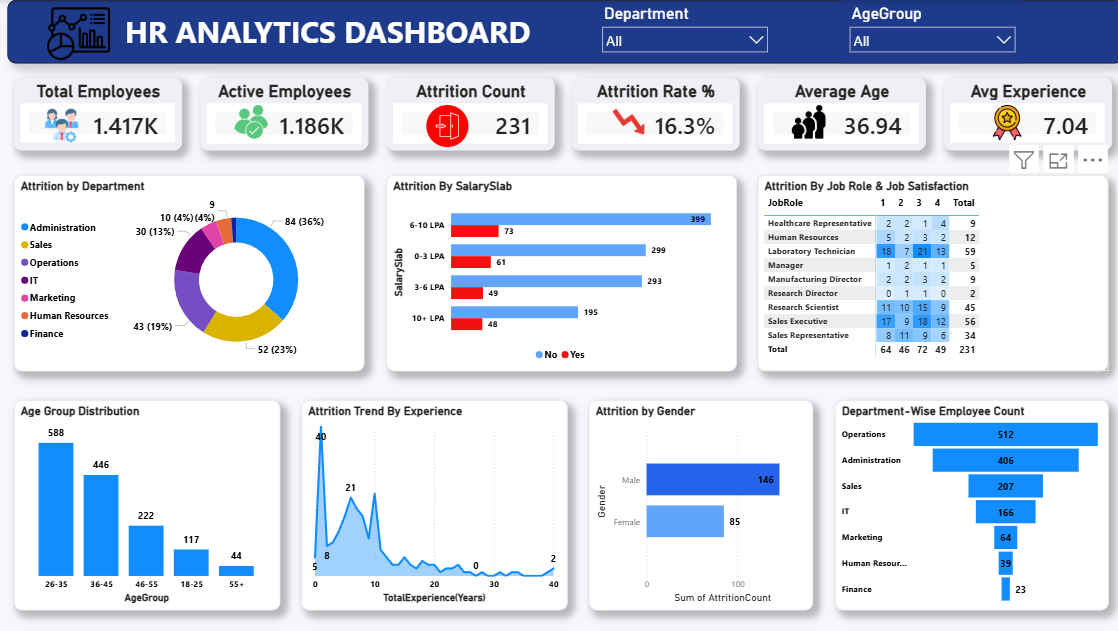

The dashboard page shown, as its layout file describes it:
{"tool":"powerbi","page":{"name":"Page 1","canvas":[1600,900],"ordinal":0},"visuals":[{"type":"textbox","box":[10.3,0,1590.1,90],"z":0},{"type":"cardVisual","title":"Total Employees","fields":{"Data":["CountNonNull(HR_Analytics-4.EmpID)"]},"box":[20,110,240,104],"z":1000},{"type":"cardVisual","title":"Active Employees","fields":{"Data":["CountNonNull(HR_Analytics-4.EmployeeCount)"]},"box":[285,110,240,104.3],"z":2000},{"type":"cardVisual","title":"Attrition Count","fields":{"Data":["Sum(HR_Analytics-4.AttritionCount)"]},"box":[550,110,240,104.3],"z":3000},{"type":"cardVisual","title":"Attrition Rate %","fields":{"Data":["HR_Analytics-4.Attrition Rate %"]},"box":[815,110,240,104.3],"z":4000},{"type":"cardVisual","title":"Average Age","fields":{"Data":["Avg(HR_Analytics-4.Age)"]},"box":[1080,110,240,104.3],"z":5000},{"type":"cardVisual","title":"Avg Experience","fields":{"Data":["Avg(HR_Analytics-4.YearsatCompany)"]},"box":[1345,110,240,104],"z":6000},{"type":"donutChart","title":"Attrition by Department","fields":{"Category":["HR_Analytics-4.Department"],"Y":["Sum(HR_Analytics-4.AttritionCount)"]},"box":[20,250,500,280],"z":7000},{"type":"clusteredBarChart","title":"Attrition By SalarySlab","fields":{"Category":["HR_Analytics-4.SalarySlab"],"Y":["CountNonNull(HR_Analytics-4.EmpID)"],"Series":["HR_Analytics-4.Attrition"]},"box":[550,250,500,280],"z":8000},{"type":"pivotTable","title":"Attrition By Job Role & Job Satisfaction","fields":{"Rows":["HR_Analytics-4.JobRole"],"Values":["Sum(HR_Analytics-4.AttritionCount)"],"Columns":["HR_Analytics-4.JobSatisfaction"]},"box":[1080,250,500,280],"z":9000},{"type":"columnChart","title":"Age Group Distribution","fields":{"Y":["Sum(HR_Analytics-4.EmployeeCount)"],"Category":["HR_Analytics-4.AgeGroup"]},"box":[20,570,380,300],"z":10000},{"type":"clusteredBarChart","title":"Attrition by Gender","fields":{"Category":["HR_Analytics-4.Gender"],"Y":["Sum(HR_Analytics-4.AttritionCount)"]},"box":[840,570,320,300],"z":11000},{"type":"areaChart","title":"Attrition Trend By Experience","fields":{"Category":["HR_Analytics-4.TotalExperience(Years)"],"Y2":["Sum(HR_Analytics-4.AttritionCount)"]},"box":[430,570,380,300],"z":12000},{"type":"funnel","title":"Department-Wise Employee Count","fields":{"Category":["HR_Analytics-4.Department"],"Y":["CountNonNull(HR_Analytics-4.EmpID)"]},"box":[1190,570,390,300],"z":13000},{"type":"slicer","fields":{"Values":["HR_Analytics-4.Department"]},"box":[848,0,256,96],"z":14000},{"type":"slicer","fields":{"Values":["HR_Analytics-4.AgeGroup"]},"box":[1200,0,256,90],"z":15000},{"type":"image","box":[310,150,96,48],"z":16000},{"type":"image","box":[32,155,112,48],"z":17000},{"type":"image","box":[1400,150,70,50],"z":18000},{"type":"image","box":[1104,150,96,48],"z":19000},{"type":"image","box":[848,150,96,48],"z":20000},{"type":"image","box":[600,150,75,60],"z":21000},{"type":"image","box":[48,0,128,96],"z":22000}]}

Visuals, with their boxes in screenshot pixels (x1, y1, x2, y2), scaled from the page's 1600x900 canvas onto the 1118x631 screenshot:
textbox: (7,0,1117,63)
"Total Employees" cardVisual: (14,77,182,150)
"Active Employees" cardVisual: (199,77,367,150)
"Attrition Count" cardVisual: (384,77,552,150)
"Attrition Rate %" cardVisual: (569,77,737,150)
"Average Age" cardVisual: (755,77,922,150)
"Avg Experience" cardVisual: (940,77,1108,150)
"Attrition by Department" donutChart: (14,175,363,372)
"Attrition By SalarySlab" clusteredBarChart: (384,175,734,372)
"Attrition By Job Role & Job Satisfaction" pivotTable: (755,175,1104,372)
"Age Group Distribution" columnChart: (14,400,280,610)
"Attrition by Gender" clusteredBarChart: (587,400,811,610)
"Attrition Trend By Experience" areaChart: (300,400,566,610)
"Department-Wise Employee Count" funnel: (832,400,1104,610)
slicer - HR_Analytics-4.Department: (593,0,771,67)
slicer - HR_Analytics-4.AgeGroup: (838,0,1017,63)
image: (217,105,284,139)
image: (22,109,101,142)
image: (978,105,1027,140)
image: (771,105,838,139)
image: (593,105,660,139)
image: (419,105,472,147)
image: (34,0,123,67)
